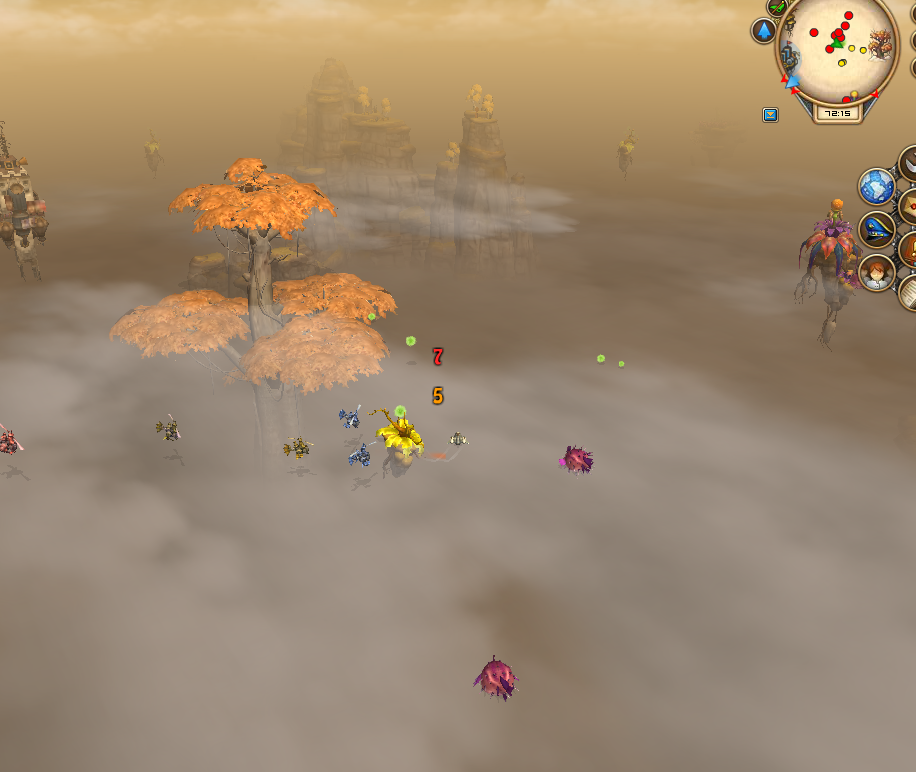dandelion-full: (374, 401, 424, 482), (613, 122, 639, 177), (140, 124, 165, 176)
fluff: (592, 348, 612, 368), (400, 332, 420, 350), (361, 306, 378, 326), (614, 354, 630, 371)
